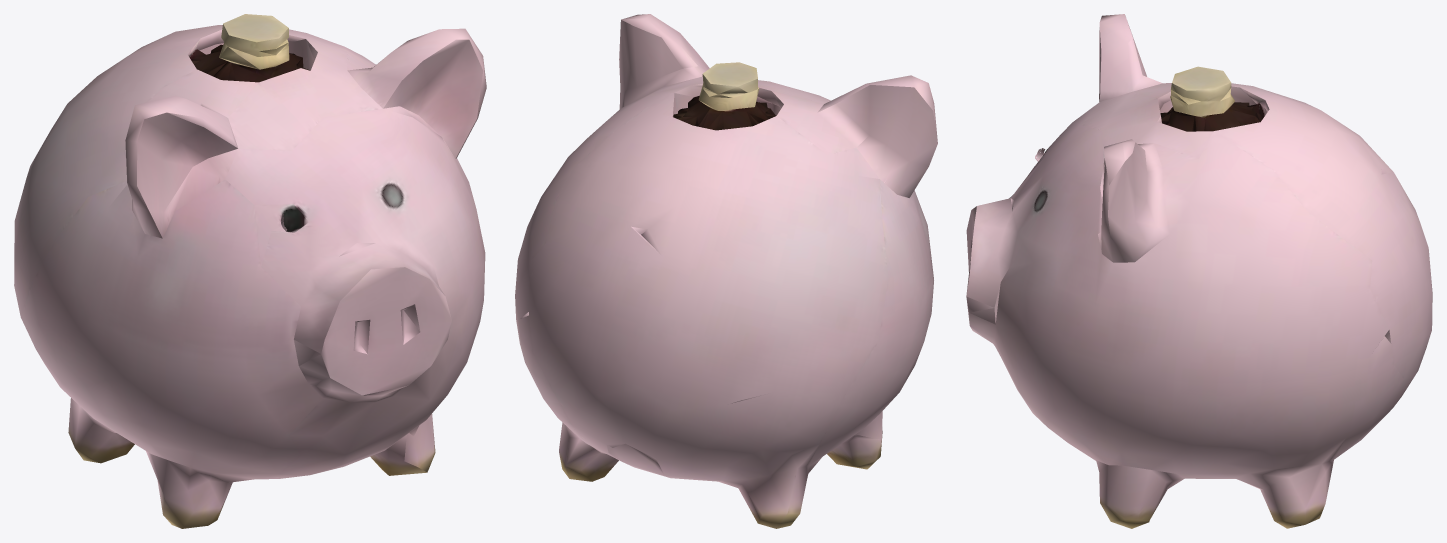
Rendered from m2ToyPiggyBank.glb.
3 renders of one model, left to right at view 1: azimuth 30°, elevation 25°; view 2: azimuth 150°, elevation 25°; view 3: azimuth 270°, elevation 25°, orthographic. The views are drawn at different scales.
Parts seen in each view (by area): view 1: model; view 2: model; view 3: model.
Part boxes in pixels (left/top/right/bottom): model: left=14, top=14, right=486, bottom=528; model: left=515, top=14, right=937, bottom=528; model: left=966, top=14, right=1432, bottom=528.
Size of the model in its own units: 1.65 by 1.77 by 1.9.
1 material, 1 textured.
